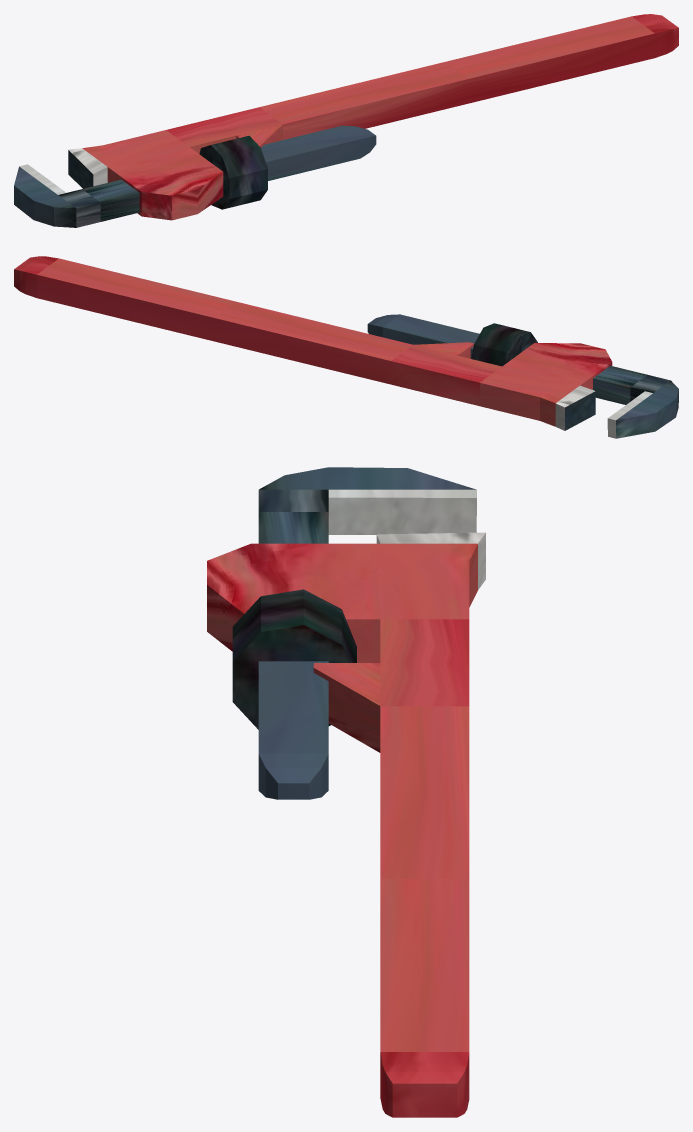
File: 1Gasoviy kluch.fbx
The picture shows the model from 3 angles, top to bottom: view 1: azimuth 30°, elevation 25°; view 2: azimuth 150°, elevation 25°; view 3: azimuth 270°, elevation 25°; orthographic projection. The views are drawn at different scales.
Parts seen in each view (by area): view 1: Куб; view 2: Куб; view 3: Куб.
Boxes of the visible parts, bbox=[...] form: Куб: bbox=[14, 14, 678, 227]; Куб: bbox=[14, 256, 678, 438]; Куб: bbox=[207, 467, 485, 1117].
Bounding box in the file's own units: 3271 × 283 × 627.
Materials: 1 (1 with a texture image).
